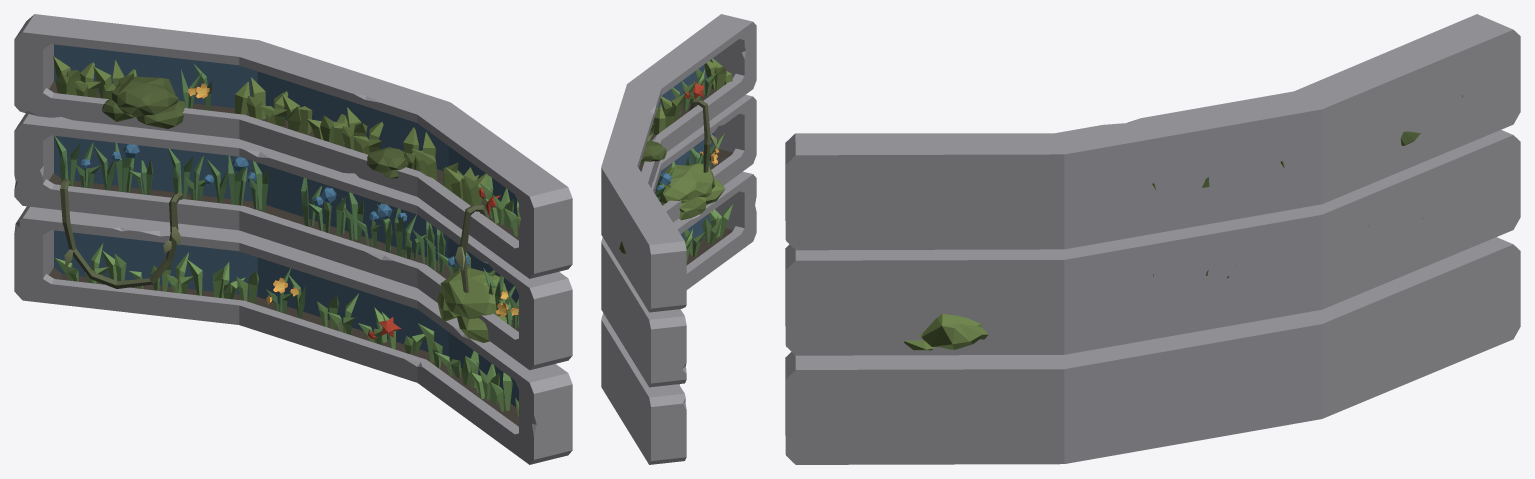
File: SM_Bld_Hydroponics_WallPlantsLower_L_01.fbx
The picture shows the model from 3 angles, left to right: view 1: azimuth 30°, elevation 25°; view 2: azimuth 150°, elevation 25°; view 3: azimuth 270°, elevation 25°; orthographic projection. The views are drawn at different scales.
Parts seen in each view (by area): view 1: SM_Bld_Hydroponics_WallPlantsLower_L_01_LOD0; view 2: SM_Bld_Hydroponics_WallPlantsLower_L_01_LOD0; view 3: SM_Bld_Hydroponics_WallPlantsLower_L_01_LOD0.
Part boxes in pixels (left/top/right/bottom): SM_Bld_Hydroponics_WallPlantsLower_L_01_LOD0: left=14, top=14, right=572, bottom=464; SM_Bld_Hydroponics_WallPlantsLower_L_01_LOD0: left=601, top=14, right=756, bottom=464; SM_Bld_Hydroponics_WallPlantsLower_L_01_LOD0: left=785, top=14, right=1520, bottom=464.
Bounding box in the file's own units: 833 × 408 × 387.
Materials: 1 (1 with a texture image).
